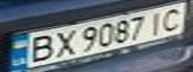0: (97, 20, 118, 47)
7: (127, 14, 151, 40)
8: (112, 17, 133, 44)
9: (75, 24, 100, 52)
B: (21, 33, 57, 64)
C: (157, 4, 190, 33)
I: (145, 8, 172, 35)
X: (48, 27, 78, 58)
